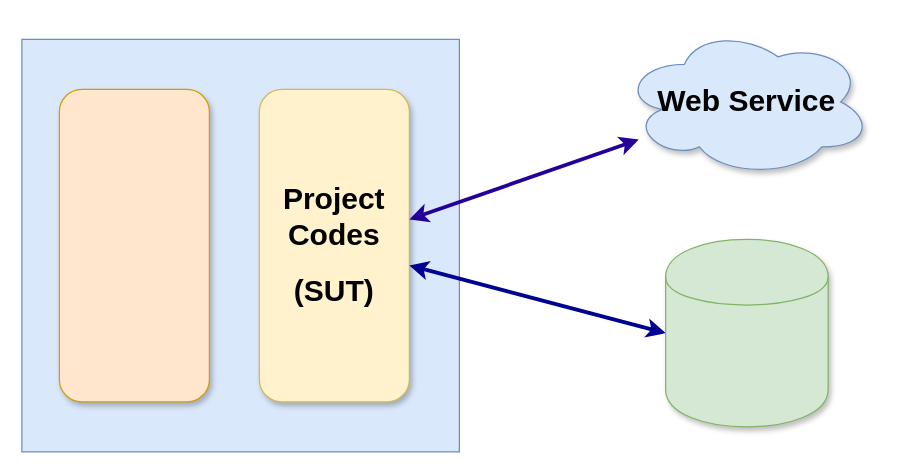
Some shapes in this 901 by 474 pixel diagram are drawn without their labels. Each missing label, with the centre of its shape:
Database: (747,334)
Unit Tests: (135,247)
